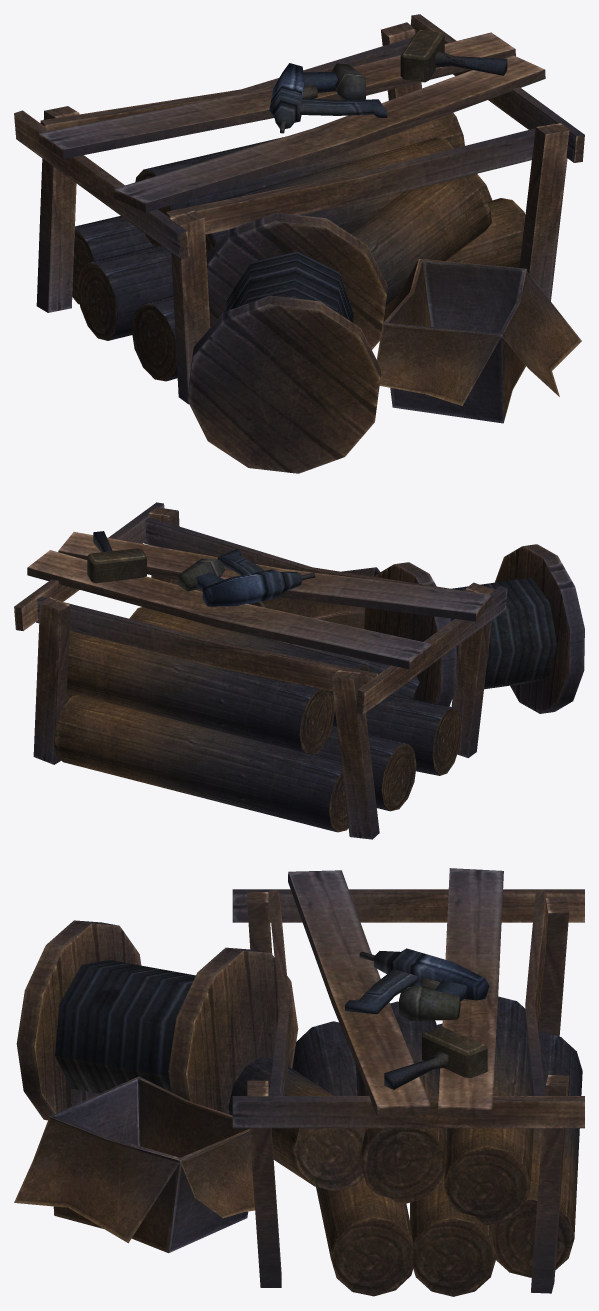
Rendered from colonistsupplies_00.fbx.
3 views of the same model, one above another, from view 1: azimuth 30°, elevation 25°; view 2: azimuth 150°, elevation 25°; view 3: azimuth 270°, elevation 25° (orthographic). The views are drawn at different scales.
Visible parts, largest first — view 1: Geoset_0; view 2: Geoset_0; view 3: Geoset_0.
Part boxes in pixels (left/top/right/bottom): Geoset_0: left=14, top=14, right=584, bottom=473; Geoset_0: left=14, top=502, right=584, bottom=839; Geoset_0: left=14, top=868, right=584, bottom=1296.
Bounding box in the file's own units: 2.11 × 0.9777 × 2.06.
Materials: 1 (1 with a texture image).
